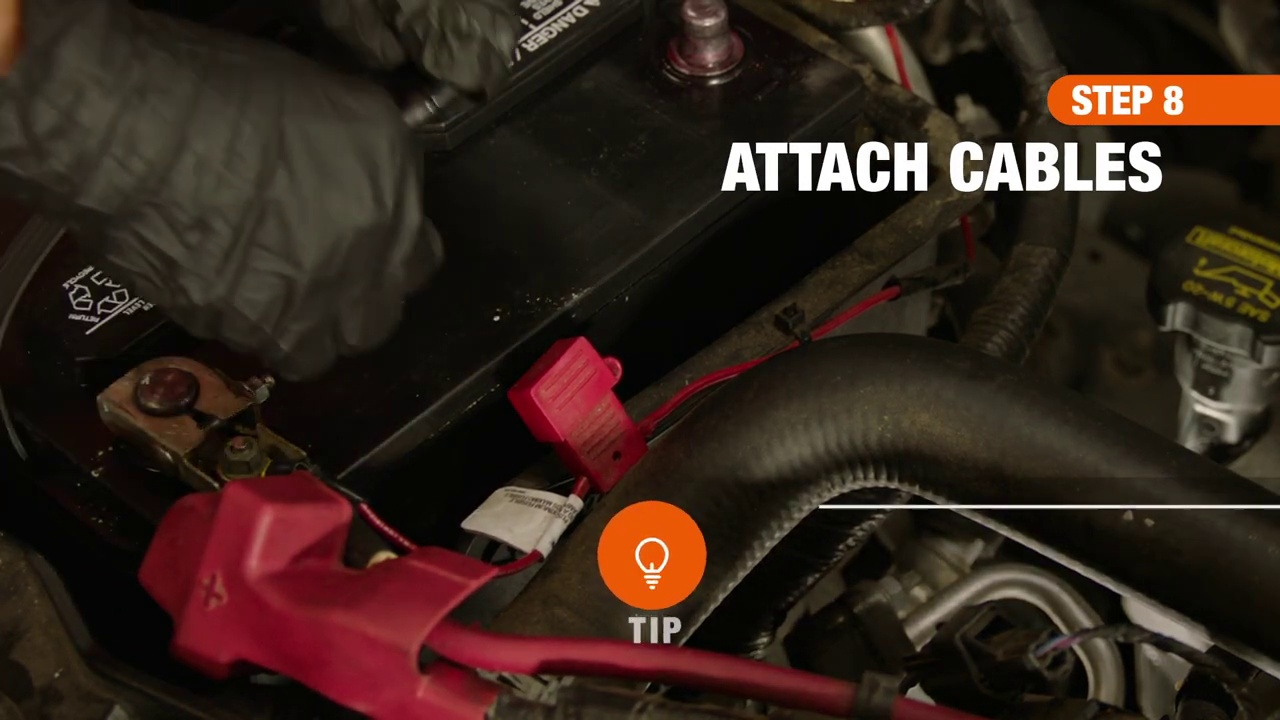battery: (11, 4, 864, 589)
neg_disconnected: (632, 1, 767, 96)
pos_connected: (77, 328, 327, 536)
pos_touched: (92, 185, 372, 636)
